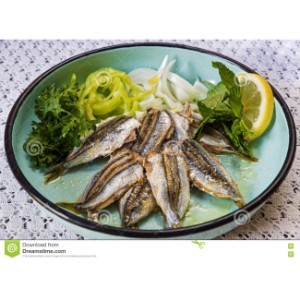sardine_brain food: (32, 109, 249, 216)
